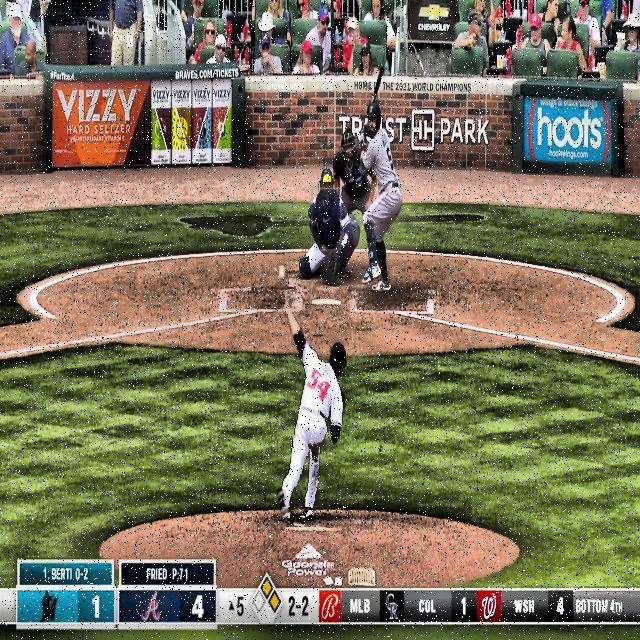baseball: (279, 266, 284, 278)
